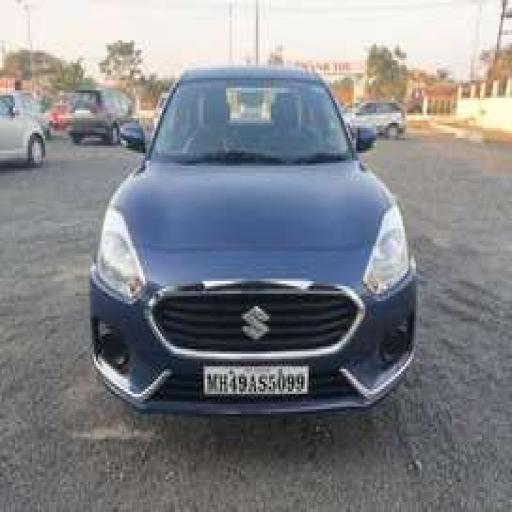license_plate`: (201, 362, 307, 392)
